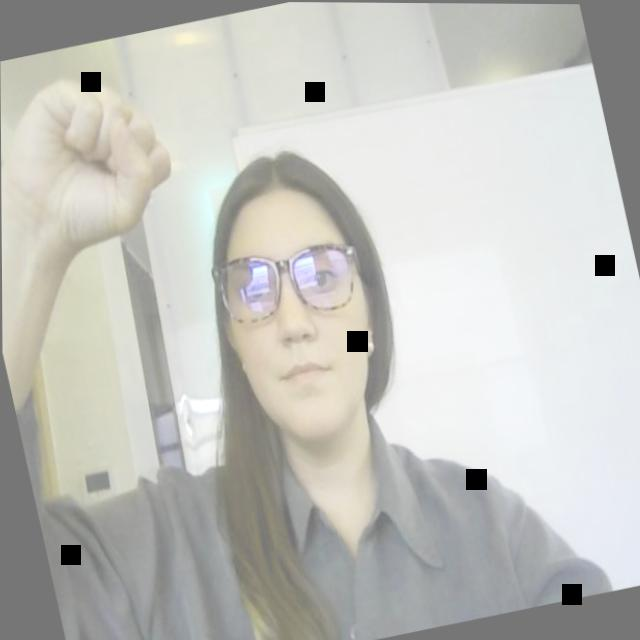Rock: (0, 44, 193, 277)
